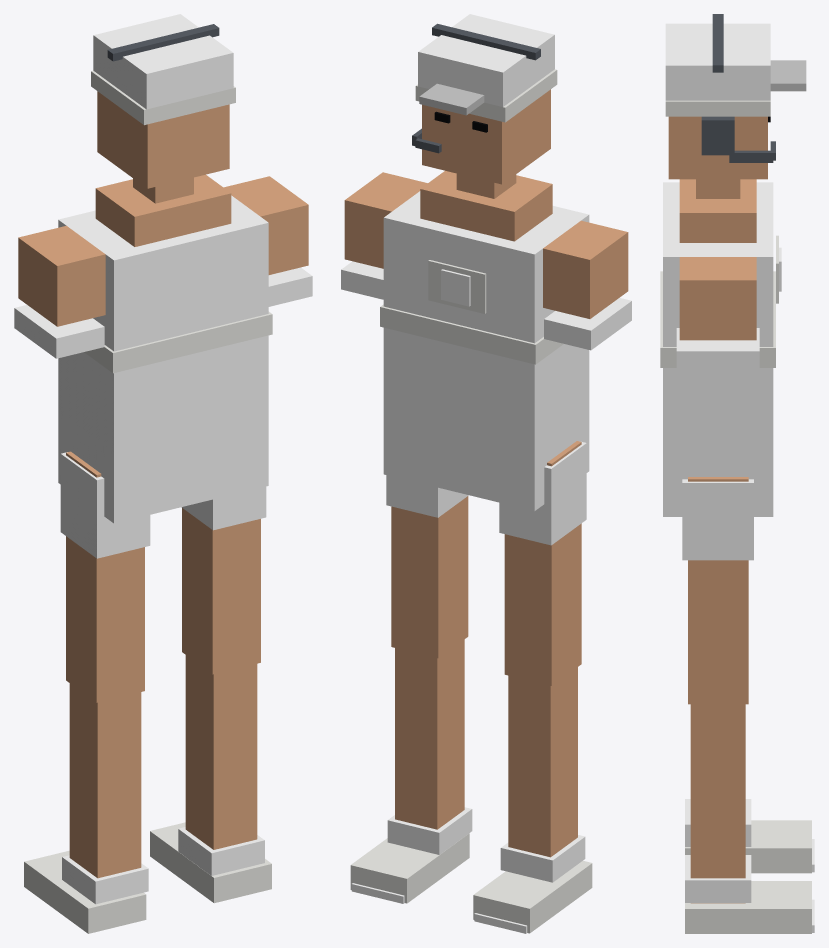
File: RUNNER.gltf
The picture shows the model from 3 angles, left to right: view 1: azimuth 30°, elevation 25°; view 2: azimuth 150°, elevation 25°; view 3: azimuth 270°, elevation 25°; orthographic projection. The views are drawn at different scales.
Parts seen in each view (by area): view 1: RUNNER; view 2: RUNNER; view 3: RUNNER.
Boxes of the visible parts, box(x1,y1,x2,y2) form: RUNNER: box(14, 14, 312, 933); RUNNER: box(341, 14, 631, 933); RUNNER: box(660, 14, 814, 933).
Bounding box in the file's own units: 0.53 × 1.7 × 0.28.
